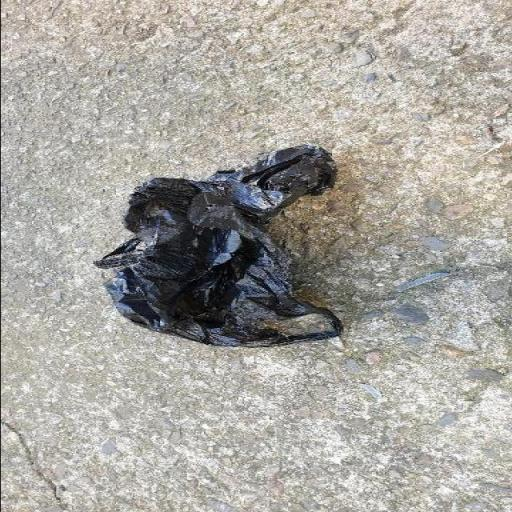plastic-bag: (88, 144, 338, 350)
